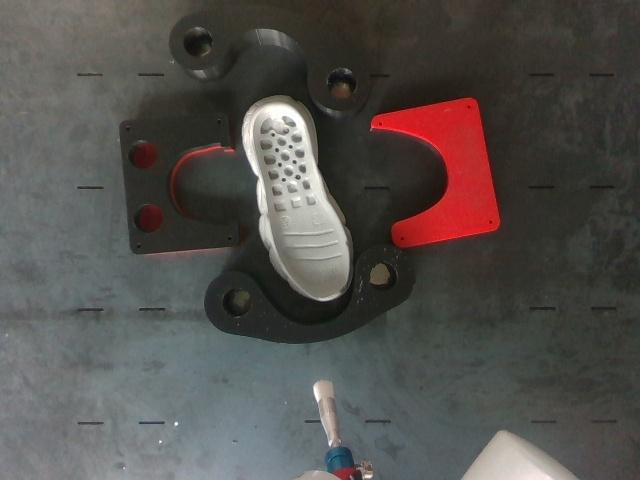shoes: (253, 104, 350, 299)
